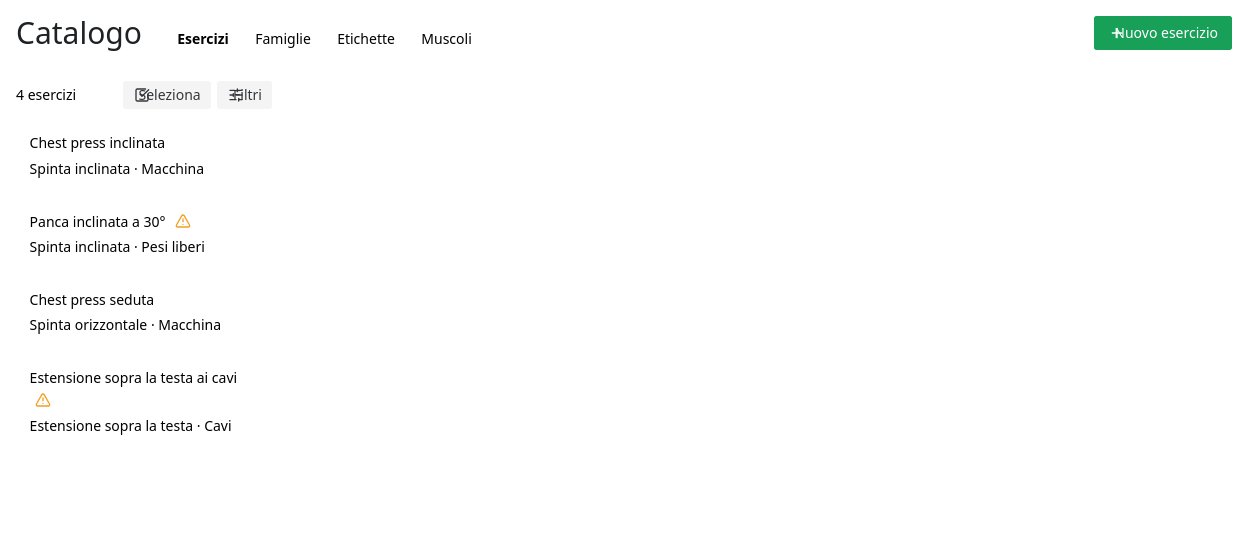
CatalogPage › selezione multipla (US-08 CA2) › sul telefono toccare una scheda la seleziona
Click the button with test id "toggle-select" at (167, 95), box [122,81,211,109]
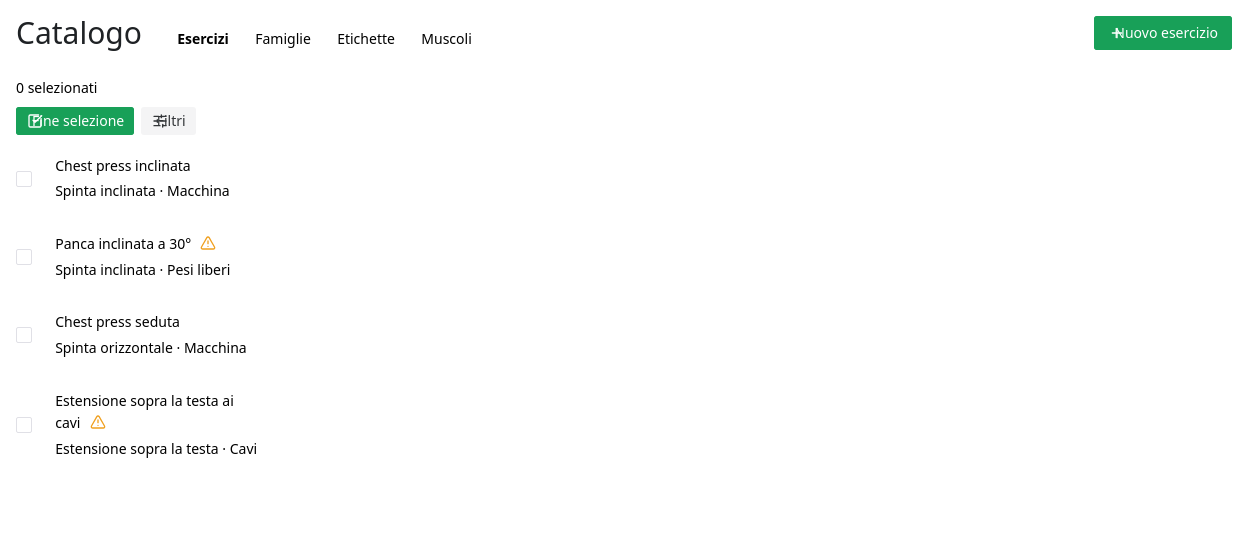
Click the link "Panca inclinata a 30° Spinta inclinata · Pesi liberi" at (125, 243), box [55,234,230,278]
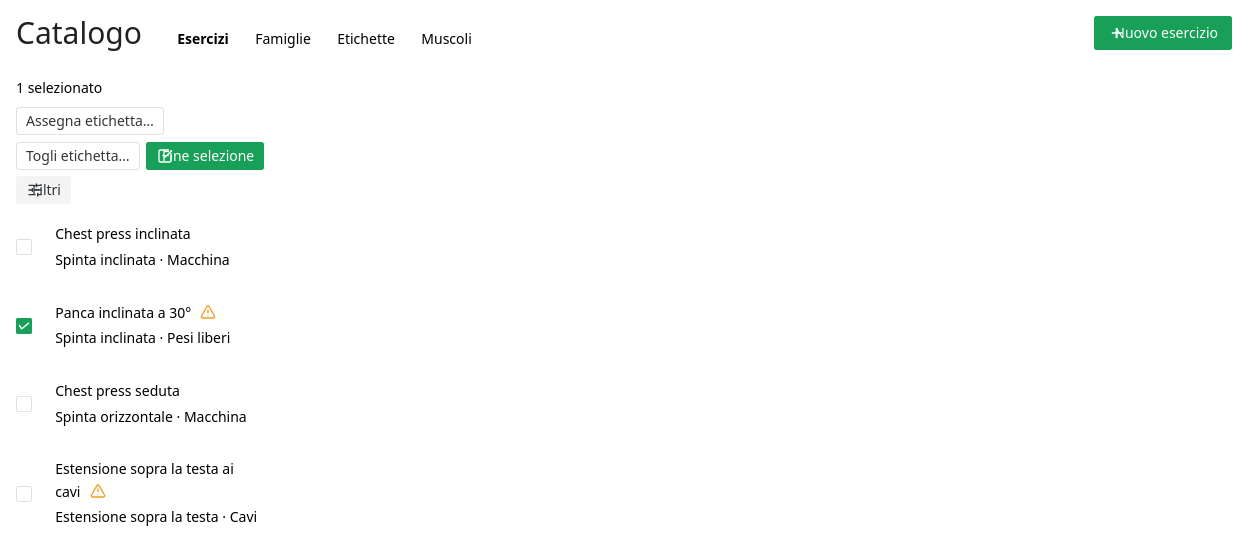
Check: the text with test id "selected-count" reads "1 selezionato", box [16,78,102,97]
